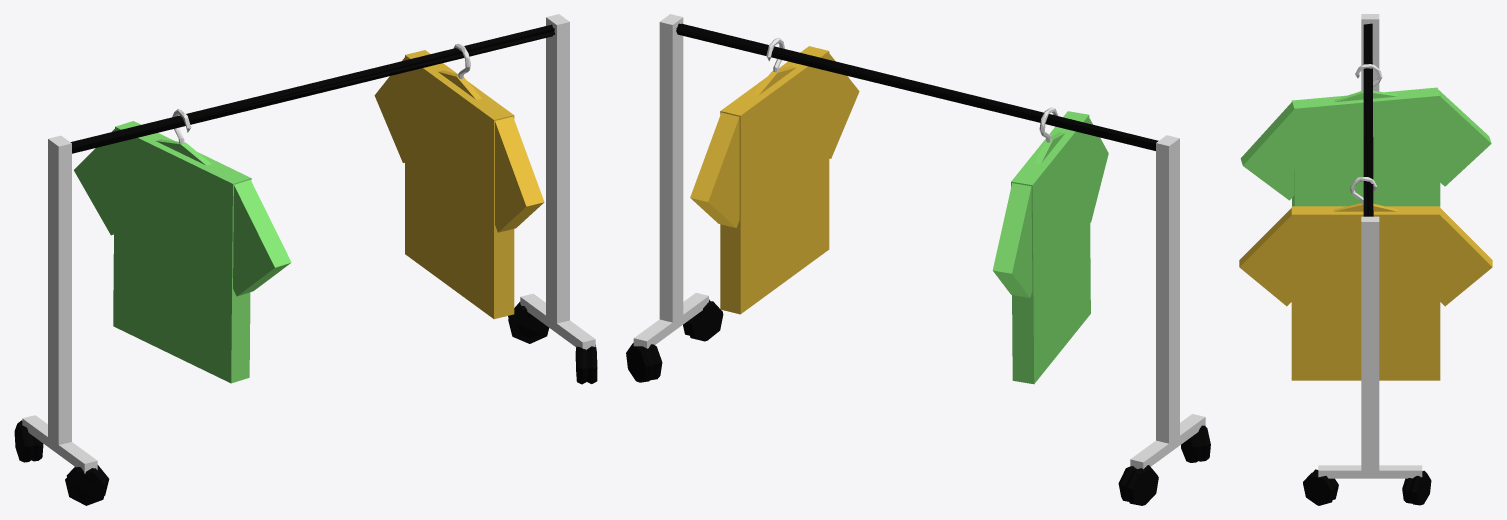
Rendered from rack_5.fbx.
3 renders of one model, left to right at view 1: azimuth 30°, elevation 25°; view 2: azimuth 150°, elevation 25°; view 3: azimuth 270°, elevation 25°, orthographic. The views are drawn at different scales.
Visible parts, largest first — view 1: Plane.003, Plane.006, Stand.R, Stand.L, Bar, Roll.R_1, Roll.L_2, Roll.R_2, Roll.L_1; view 2: Plane.006, Plane.003, Stand.L, Stand.R, Bar, Roll.R_2, Roll.L_2, Roll.L_1, Roll.R_1; view 3: Plane.006, Plane.003, Stand.L, Bar, Roll.L_1, Stand.R, Roll.L_2.
Boxes of the visible parts, x1,y1,x2,y2 form: Plane.003: (74,121,291,383); Plane.006: (374,50,544,319); Stand.R: (22,135,97,473); Stand.L: (520,14,595,349); Bar: (70,24,555,153); Roll.R_1: (65,465,109,505); Roll.L_2: (508,302,548,343); Roll.R_2: (14,420,43,462); Roll.L_1: (575,345,597,384); Plane.006: (690,46,859,314); Plane.003: (992,111,1108,384); Stand.L: (633,14,708,348); Stand.R: (1130,135,1205,469); Bar: (676,23,1158,150); Roll.R_2: (1118,465,1158,505); Roll.L_2: (626,343,662,382); Roll.L_1: (683,299,723,341); Roll.R_1: (1181,425,1210,462); Plane.006: (1239,203,1492,380); Plane.003: (1240,87,1491,206); Stand.L: (1318,216,1422,478); Bar: (1363,23,1373,216); Roll.L_1: (1303,469,1338,505); Stand.R: (1361,14,1379,91); Roll.L_2: (1402,470,1431,505).
Bounding box in the file's own units: 561 × 346 × 276.
